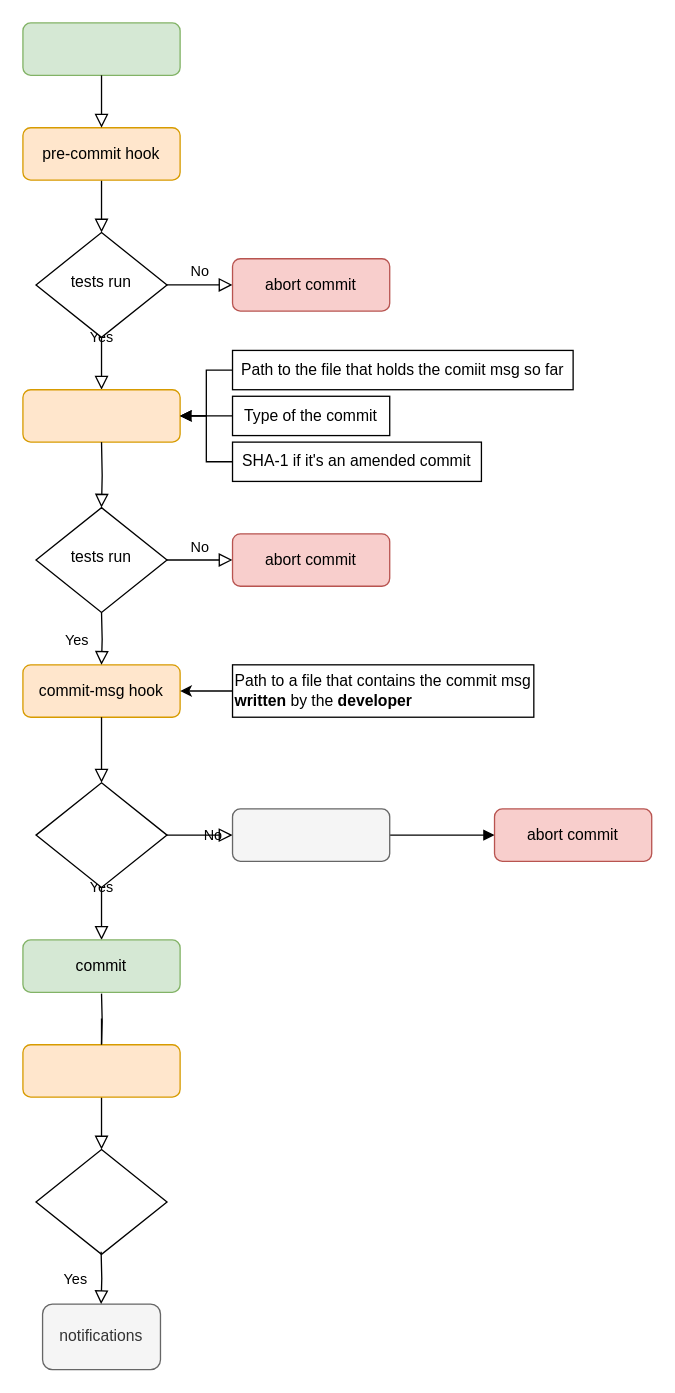
This 675x1393 diagram has some shape labels left out. Here are the shapes that lost their labels. From the top down, the box of each, then its label:
(22, 22, 180, 75): stage changes
(22, 388, 180, 442): prepare-commit-msg hook
(35, 781, 167, 888): good msg
(231, 808, 390, 861): show error
(22, 1043, 180, 1097): post-commit hook
(35, 1148, 167, 1254): action
